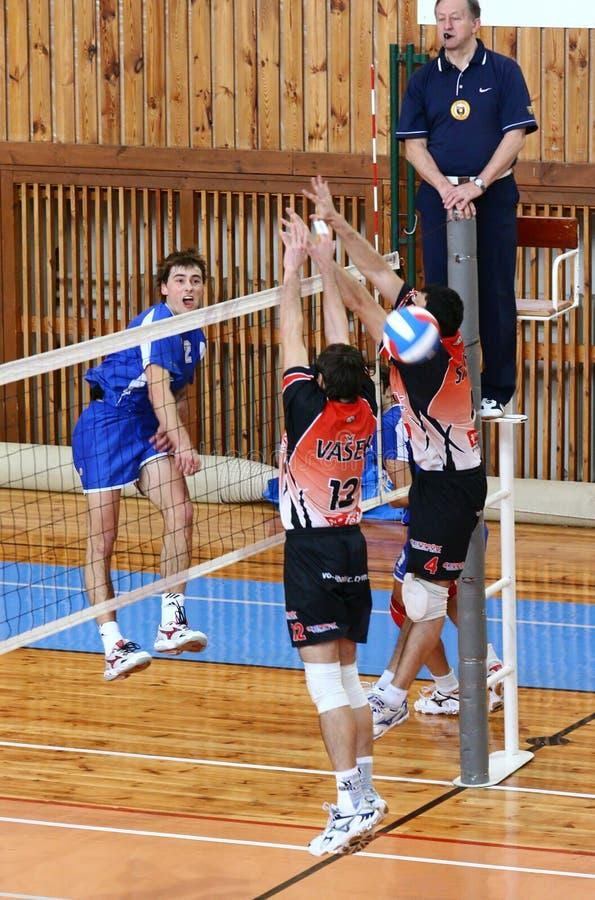ballon_volley: (382, 304, 440, 366)
